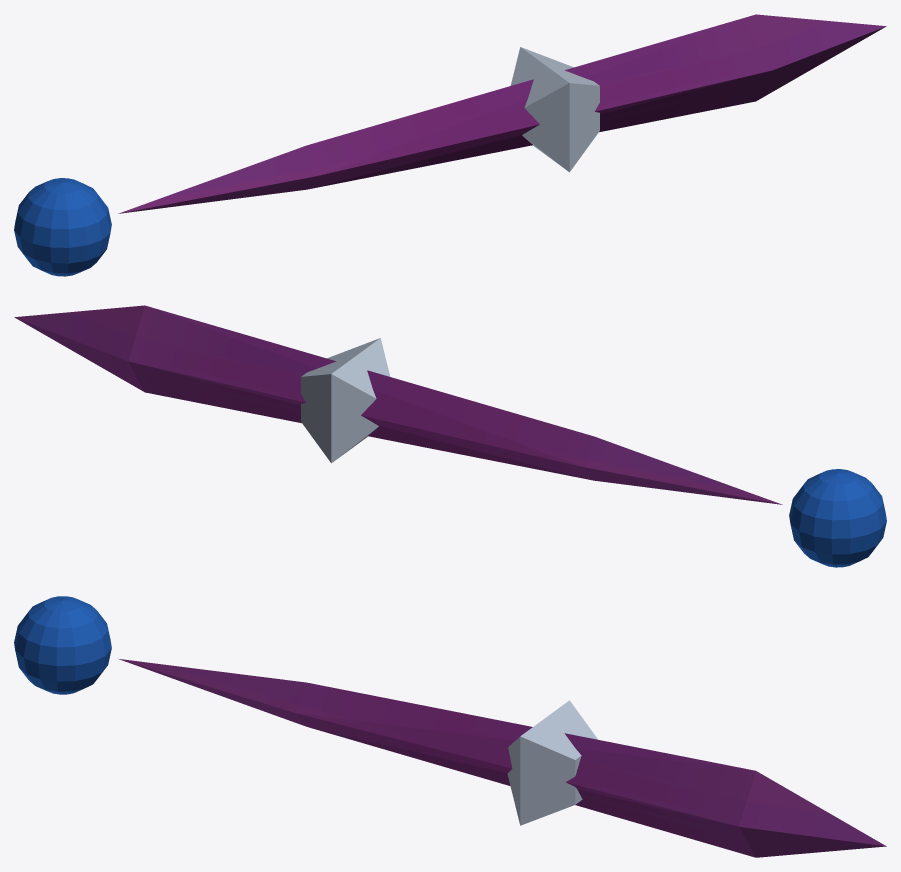
Rendered from Needle projectile.obj.
The picture shows the model from 3 angles, top to bottom: view 1: azimuth 30°, elevation 25°; view 2: azimuth 150°, elevation 25°; view 3: azimuth 330°, elevation 25°; orthographic projection.
Parts seen in each view (by area): view 1: __unnamed, _contrail, frame_needle; view 2: __unnamed, _contrail, frame_needle; view 3: __unnamed, _contrail, frame_needle.
Boxes of the visible parts, x1=… form: __unnamed: x1=118, y1=14, x2=886, y2=213; _contrail: x1=14, y1=178, x2=111, y2=276; frame_needle: x1=510, y1=47, x2=599, y2=172; __unnamed: x1=14, y1=305, x2=782, y2=504; _contrail: x1=789, y1=469, x2=886, y2=567; frame_needle: x1=301, y1=338, x2=390, y2=463; __unnamed: x1=119, y1=659, x2=886, y2=857; _contrail: x1=14, y1=596, x2=111, y2=694; frame_needle: x1=507, y1=700, x2=597, y2=825.
Bounding box in the file's own units: 20.27 × 2 × 2.
